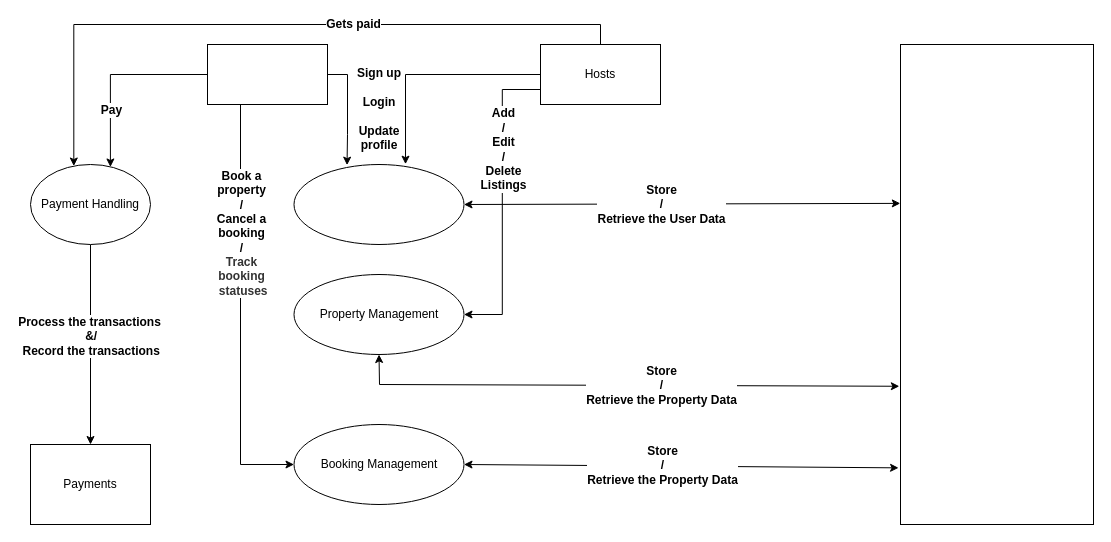
The diagram is 1111 pixels wide and 542 high, and some of its shapes have lost their labels. Each missing label, with the centre of its shape:
Database: (x=997, y=284)
Guests: (x=267, y=74)
User Management: (x=378, y=204)
